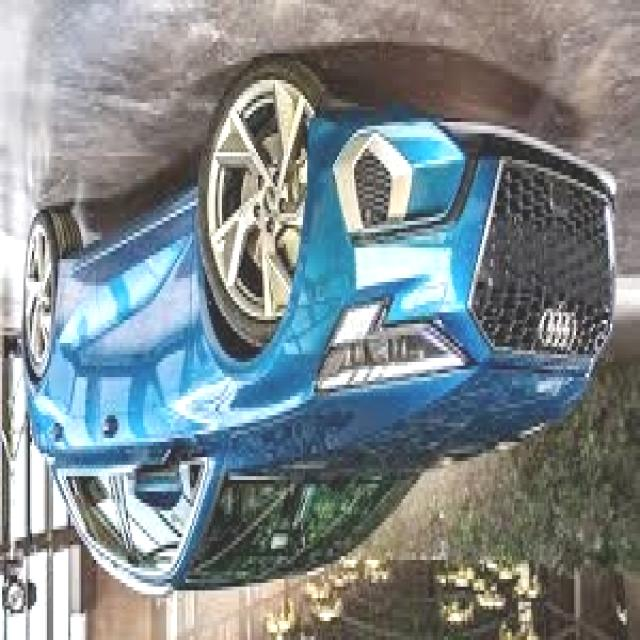blue: (24, 52, 617, 592)
